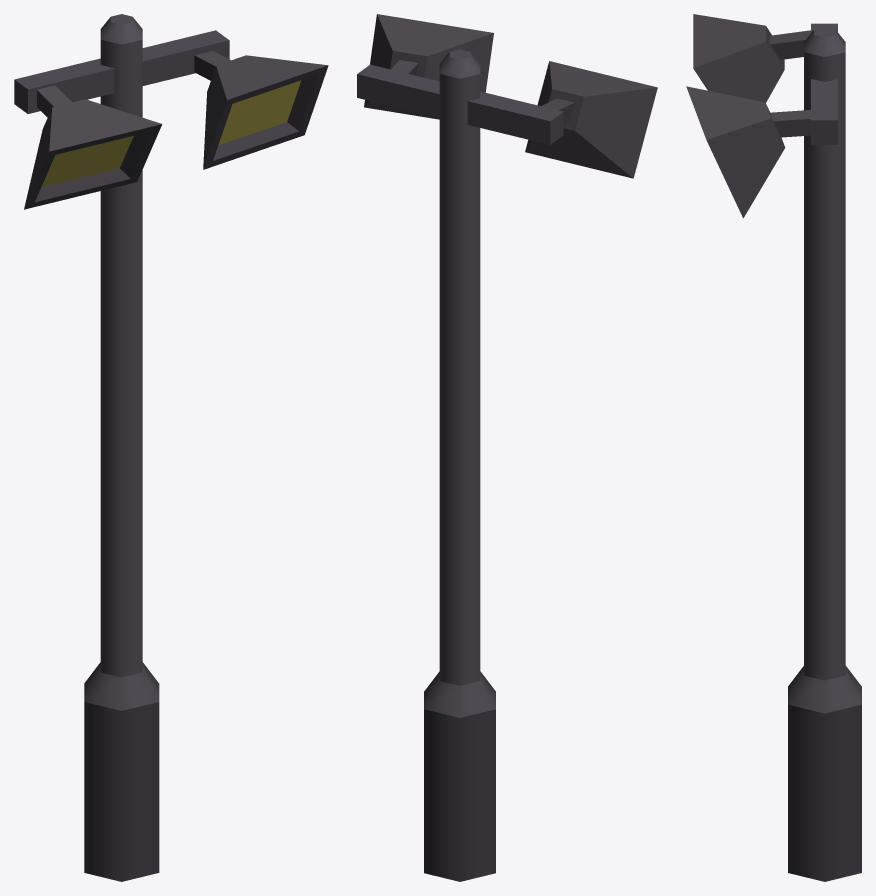
Rendered from Lamp_01.fbx.
3 views of the same model, side by side, from view 1: azimuth 30°, elevation 25°; view 2: azimuth 150°, elevation 25°; view 3: azimuth 270°, elevation 25° (orthographic). The views are drawn at different scales.
Visible parts, largest first — view 1: Lamp_01; view 2: Lamp_01; view 3: Lamp_01.
Boxes of the visible parts, box(x1,y1,x2,y2) form: Lamp_01: box(14, 14, 328, 881); Lamp_01: box(357, 14, 657, 881); Lamp_01: box(686, 14, 861, 881).
Bounding box in the file's own units: 159 × 449 × 86.06.
Materials: 1 (1 with a texture image).
